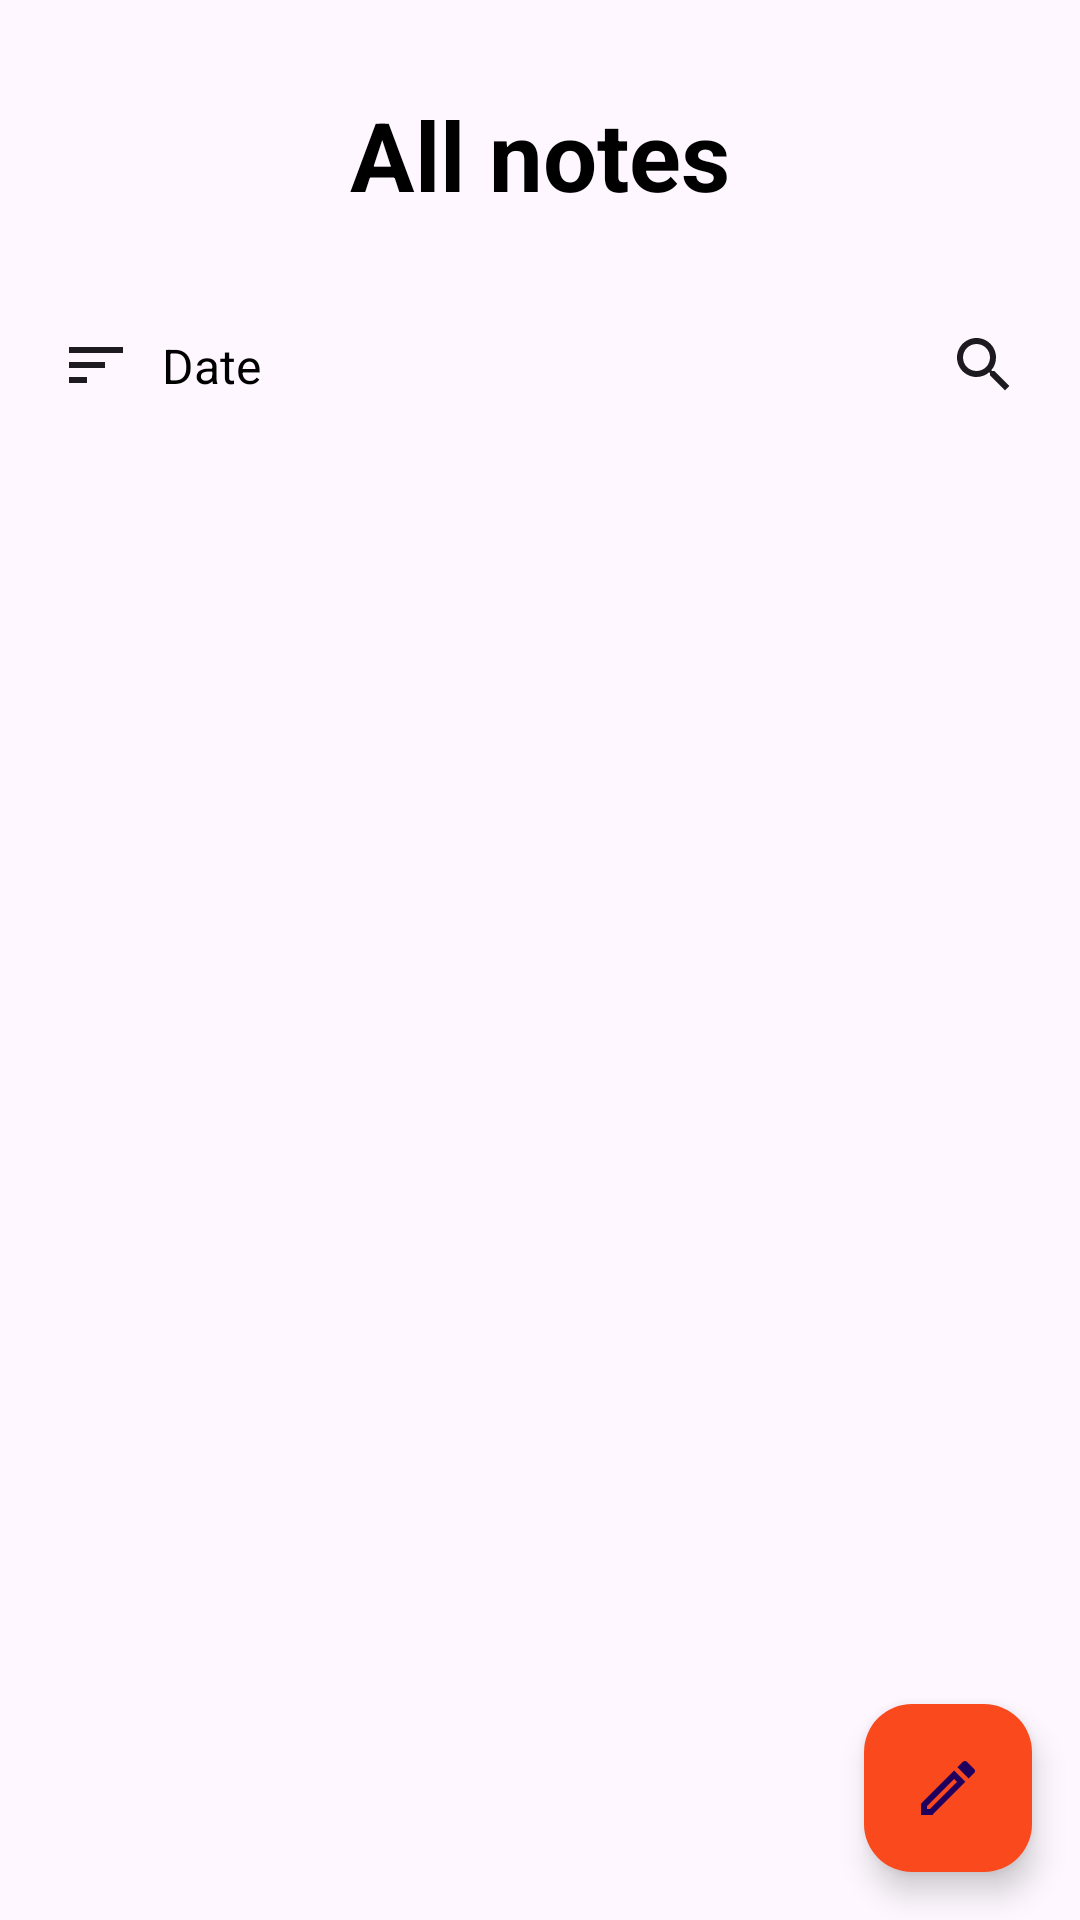

Where icons sit on this 1080*1920 app screen, as [x1=x1, y1=y1, x2=x2, y2=y2]:
pen: [x1=864, y1=1704, x2=1032, y2=1872]
Search: [x1=957, y1=338, x2=1009, y2=390]
Sort: [x1=69, y1=347, x2=123, y2=383]
